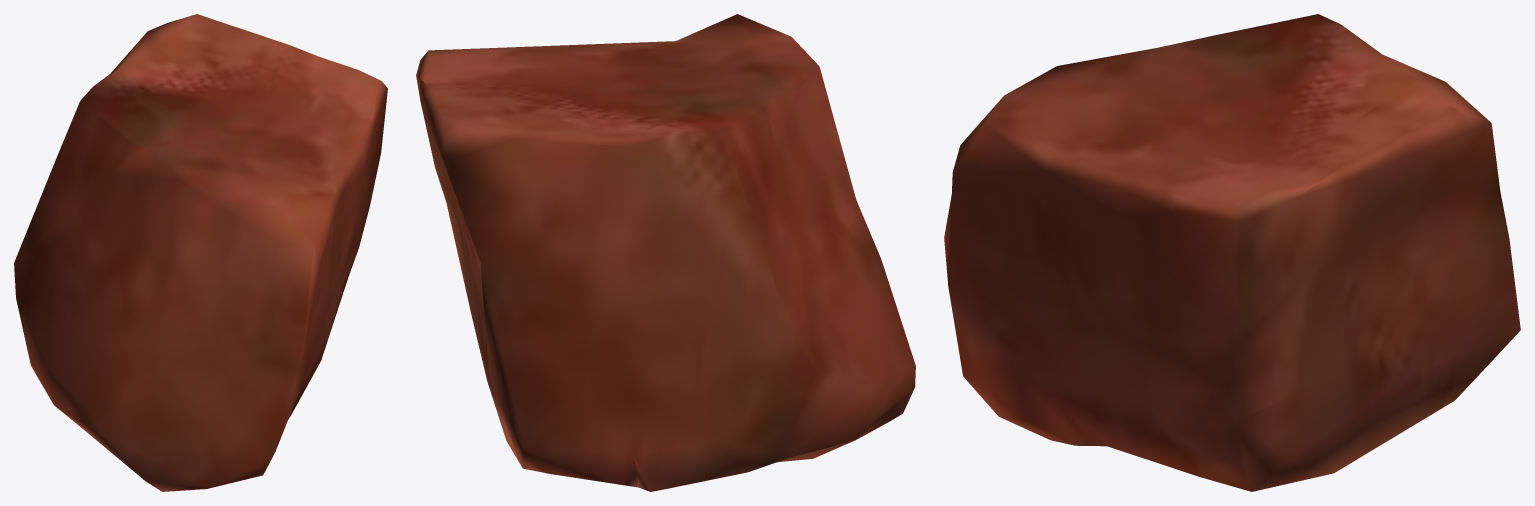
3 views of the same model, side by side, from view 1: azimuth 30°, elevation 25°; view 2: azimuth 150°, elevation 25°; view 3: azimuth 270°, elevation 25° (orthographic). The views are drawn at different scales.
Parts seen in each view (by area): view 1: SM_Mining_Ore_Clay_01_LOD0; view 2: SM_Mining_Ore_Clay_01_LOD0; view 3: SM_Mining_Ore_Clay_01_LOD0.
Part boxes in pixels (box(x1,y1,x2,y2)): SM_Mining_Ore_Clay_01_LOD0: box(14, 14, 387, 491); SM_Mining_Ore_Clay_01_LOD0: box(416, 14, 915, 491); SM_Mining_Ore_Clay_01_LOD0: box(944, 14, 1520, 491).
Size of the model in its own units: 0.664 by 0.5828 by 0.7464.
Materials: 1 (1 with a texture image).
